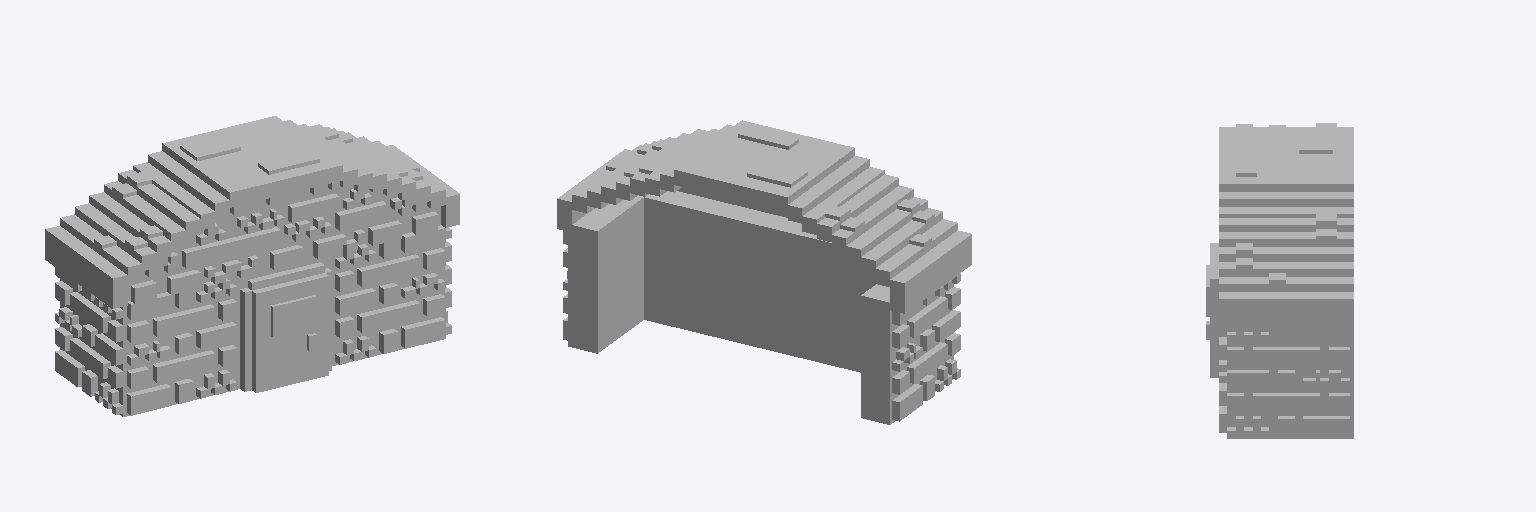
Rendered from test_building.obj.
The picture shows the model from 3 angles: view 1: azimuth 30°, elevation 25°; view 2: azimuth 150°, elevation 25°; view 3: azimuth 270°, elevation 25°; orthographic projection.
Parts seen in each view (by area): view 1: ObjObject.056; view 2: ObjObject.056; view 3: ObjObject.056.
Part boxes in pixels (bbox=[...]): ObjObject.056: bbox=[45, 116, 459, 416]; ObjObject.056: bbox=[557, 120, 971, 424]; ObjObject.056: bbox=[1206, 123, 1353, 438].
Bounding box in the file's own units: 9.5 × 5.4 × 3.5.